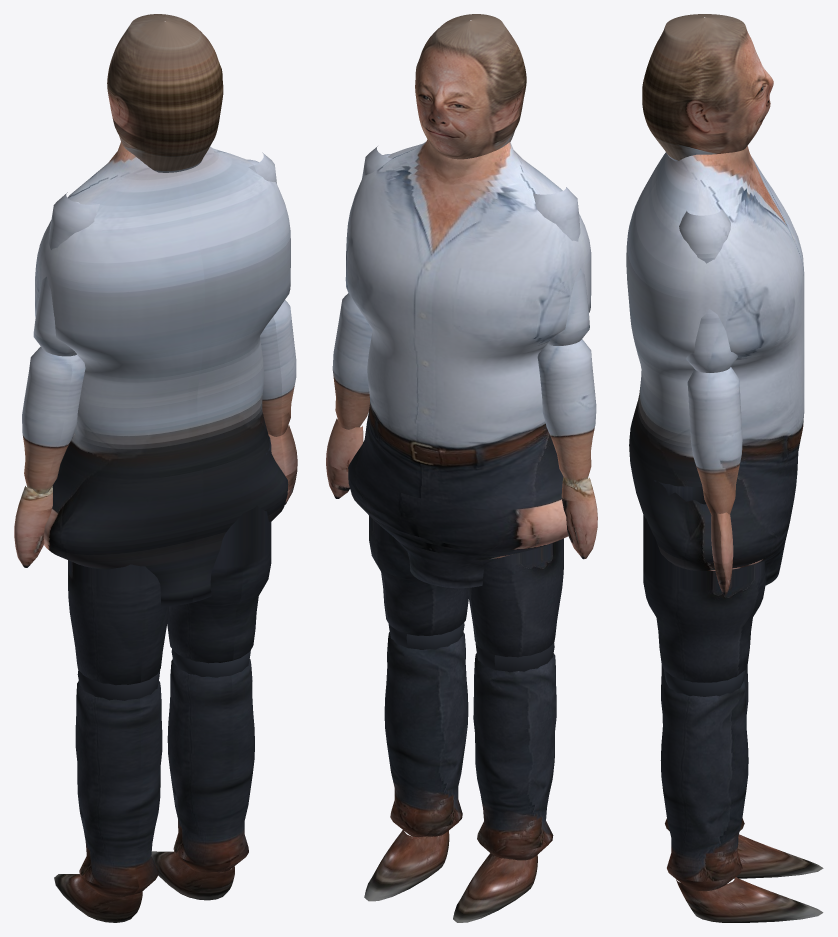
File: sterling.glb
The picture shows the model from 3 angles, left to right: view 1: azimuth 30°, elevation 25°; view 2: azimuth 150°, elevation 25°; view 3: azimuth 270°, elevation 25°; orthographic projection. The views are drawn at different scales.
Visible parts, largest first — view 1: torso, shin_l, shin_r, skull, thigh_l, thigh_r, forearm_l, forearm_r, upperarm_l, shoe_r, shoe_l, palm_l (+3 smaller); view 2: torso, shin_l, shin_r, skull, thigh_l, forearm_l, thigh_r, forearm_r, shoe_r, shoe_l, upperarm_l, palm_l (+3 smaller); view 3: torso, shin_r, skull, thigh_r, forearm_r, shoe_r, upperarm_r, shoe_l, palm_r, knee_r.
Boxes of the visible parts, x1=… form: torso: x1=35, y1=142, x2=290, y2=606; shin_l: x1=75, y1=681, x2=162, y2=897; shin_r: x1=167, y1=659, x2=254, y2=872; skull: x1=107, y1=14, x2=223, y2=172; thigh_l: x1=68, y1=560, x2=169, y2=685; thigh_r: x1=167, y1=436, x2=271, y2=663; forearm_l: x1=22, y1=346, x2=85, y2=493; forearm_r: x1=260, y1=300, x2=296, y2=436; upperarm_l: x1=33, y1=192, x2=99, y2=356; shoe_r: x1=151, y1=851, x2=234, y2=900; shoe_l: x1=54, y1=874, x2=142, y2=922; palm_l: x1=14, y1=486, x2=52, y2=567; torso: x1=346, y1=139, x2=591, y2=588; shin_l: x1=473, y1=653, x2=556, y2=860; shin_r: x1=384, y1=632, x2=468, y2=837; skull: x1=415, y1=14, x2=526, y2=159; thigh_l: x1=467, y1=538, x2=563, y2=657; forearm_l: x1=537, y1=339, x2=596, y2=484; thigh_r: x1=369, y1=516, x2=468, y2=635; forearm_r: x1=332, y1=293, x2=372, y2=429; shoe_r: x1=364, y1=830, x2=449, y2=901; shoe_l: x1=453, y1=853, x2=537, y2=922; upperarm_l: x1=533, y1=187, x2=589, y2=345; palm_l: x1=561, y1=477, x2=597, y2=559; torso: x1=626, y1=146, x2=804, y2=585; shin_r: x1=660, y1=681, x2=748, y2=891; skull: x1=642, y1=14, x2=773, y2=161; thigh_r: x1=643, y1=480, x2=766, y2=682; forearm_r: x1=687, y1=367, x2=742, y2=515; shoe_r: x1=676, y1=877, x2=823, y2=922; upperarm_r: x1=679, y1=208, x2=737, y2=372; shoe_l: x1=734, y1=834, x2=823, y2=878; palm_r: x1=711, y1=512, x2=733, y2=594; knee_r: x1=664, y1=670, x2=745, y2=696.
Size of the model in its own units: 0.5796 by 1.74 by 0.3567.
2 materials, 2 textured.
